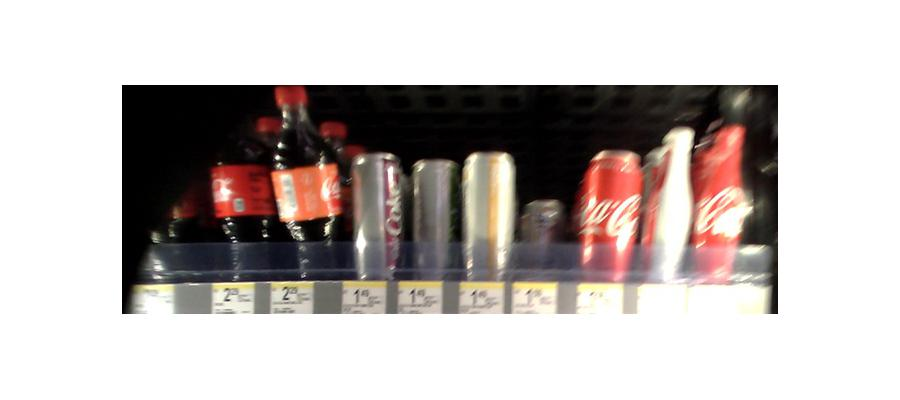bottle: (270, 79, 342, 274), (212, 101, 274, 284), (158, 130, 216, 284), (580, 148, 643, 279), (697, 122, 748, 280), (646, 128, 696, 286), (458, 153, 514, 283), (347, 149, 401, 280), (405, 155, 457, 282), (520, 195, 566, 273)
